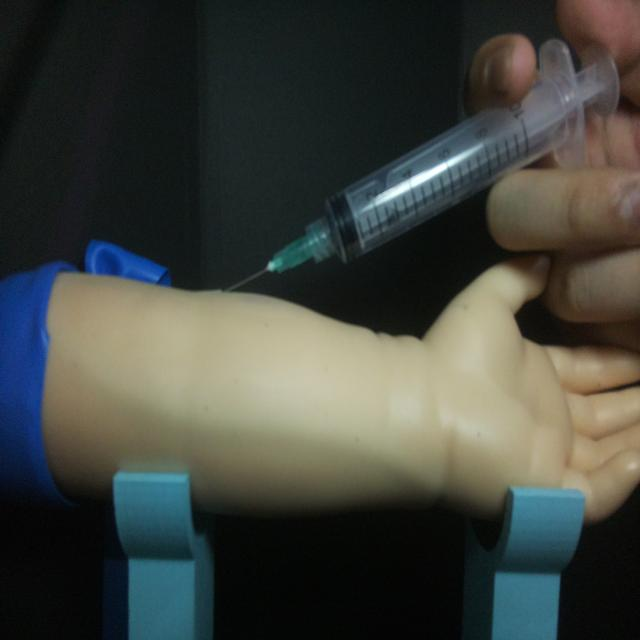21deg: (216, 35, 622, 296)
